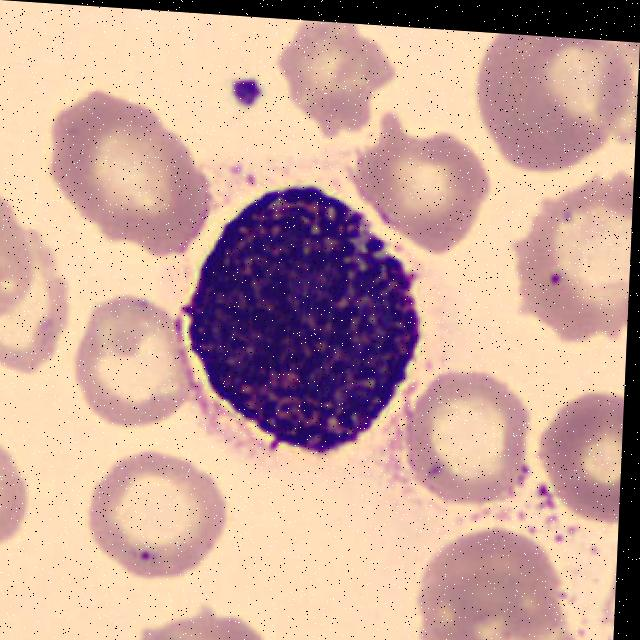basophil: (180, 189, 429, 463)
platelets: (229, 71, 264, 126)
rbc: (44, 95, 217, 254), (472, 32, 629, 174), (510, 169, 634, 342), (72, 289, 194, 455), (82, 451, 236, 581), (401, 371, 533, 511), (348, 134, 488, 261), (399, 544, 569, 640), (271, 18, 399, 141), (534, 381, 624, 528), (0, 199, 72, 381), (578, 39, 640, 160), (118, 602, 288, 640), (0, 408, 29, 560), (420, 633, 613, 640)
